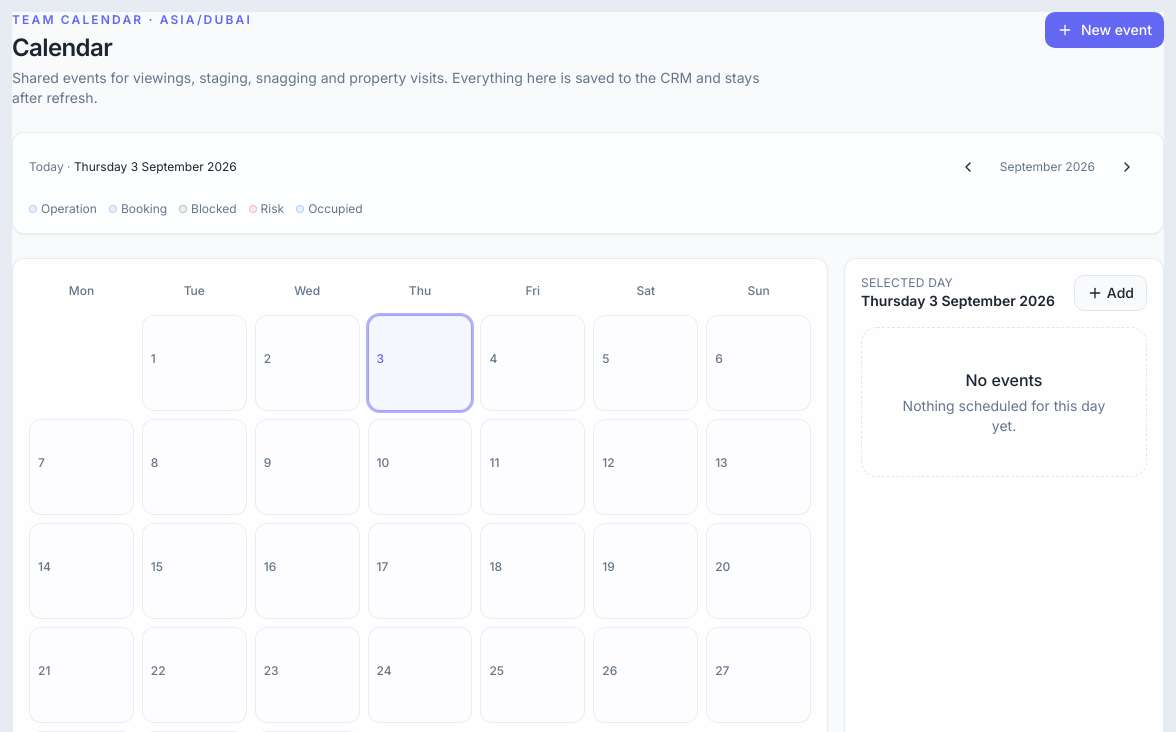
LiveCalendarModule › navigates months and refetches the new range
Expected: the text "September 2026" is shown, x1=992 y1=159 x2=1103 y2=175
Step 1. Click the button named "Next month" → (1127, 167), box x1=1107 y1=149 x2=1147 y2=185
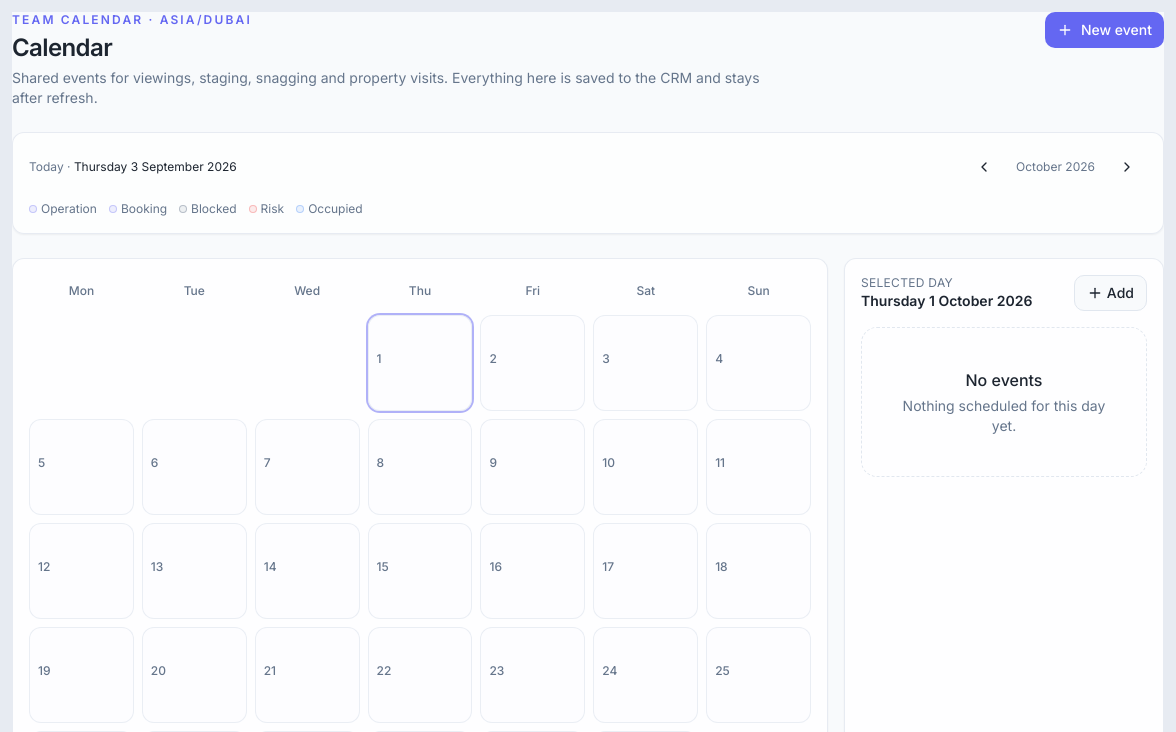
Expected: the text with test id "live-calendar-month" reads "October 2026", x1=1016 y1=159 x2=1095 y2=174
